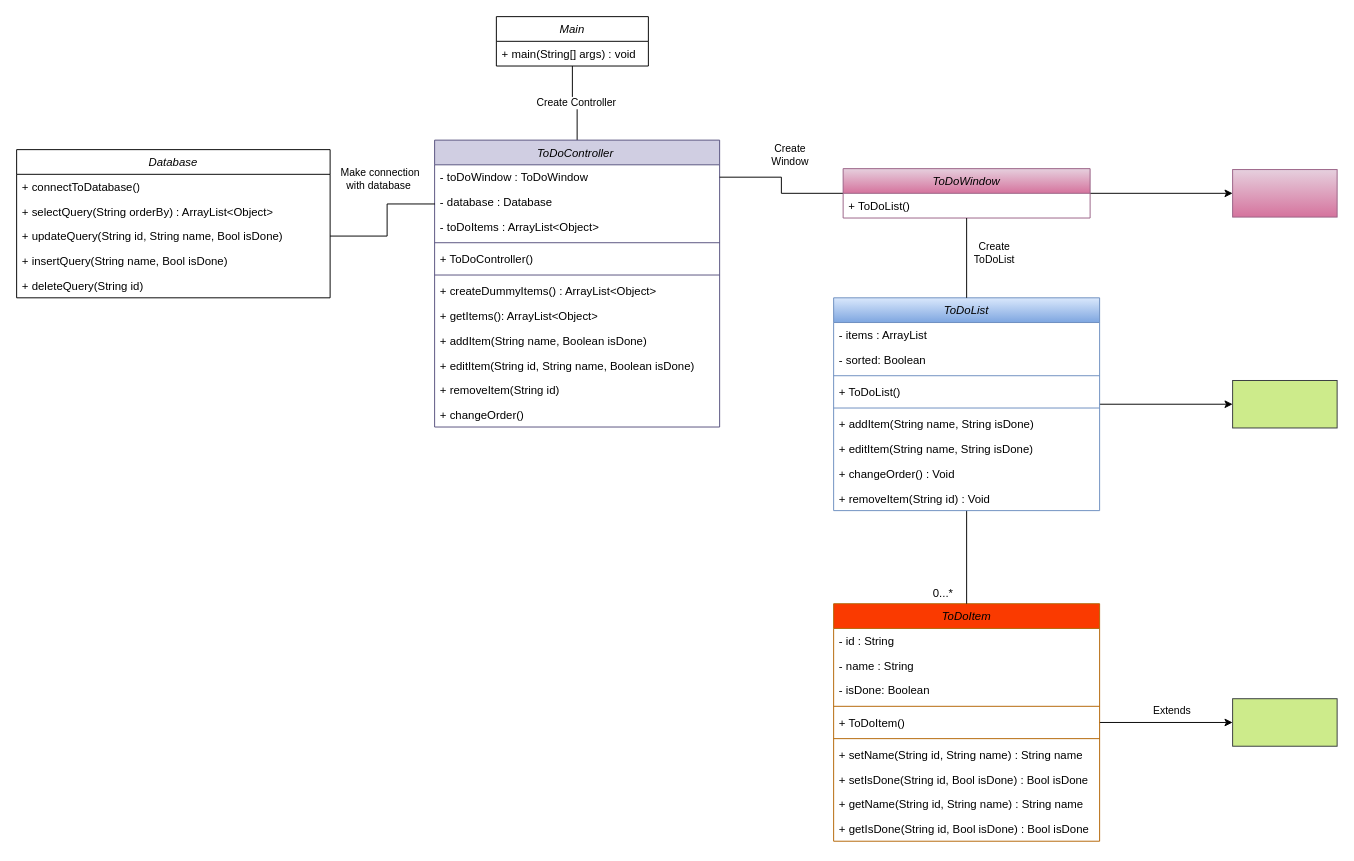
The diagram is 1354 pixels wide and 861 high, and some of its shapes have lost their labels. The shapes that lost their labels are listed below. From the top down, each one's centre as x and y in pixels, then its label:
At pixel 1284 193: "JFrame".
At pixel 1284 404: "JList".
At pixel 1284 722: "JPanel".
